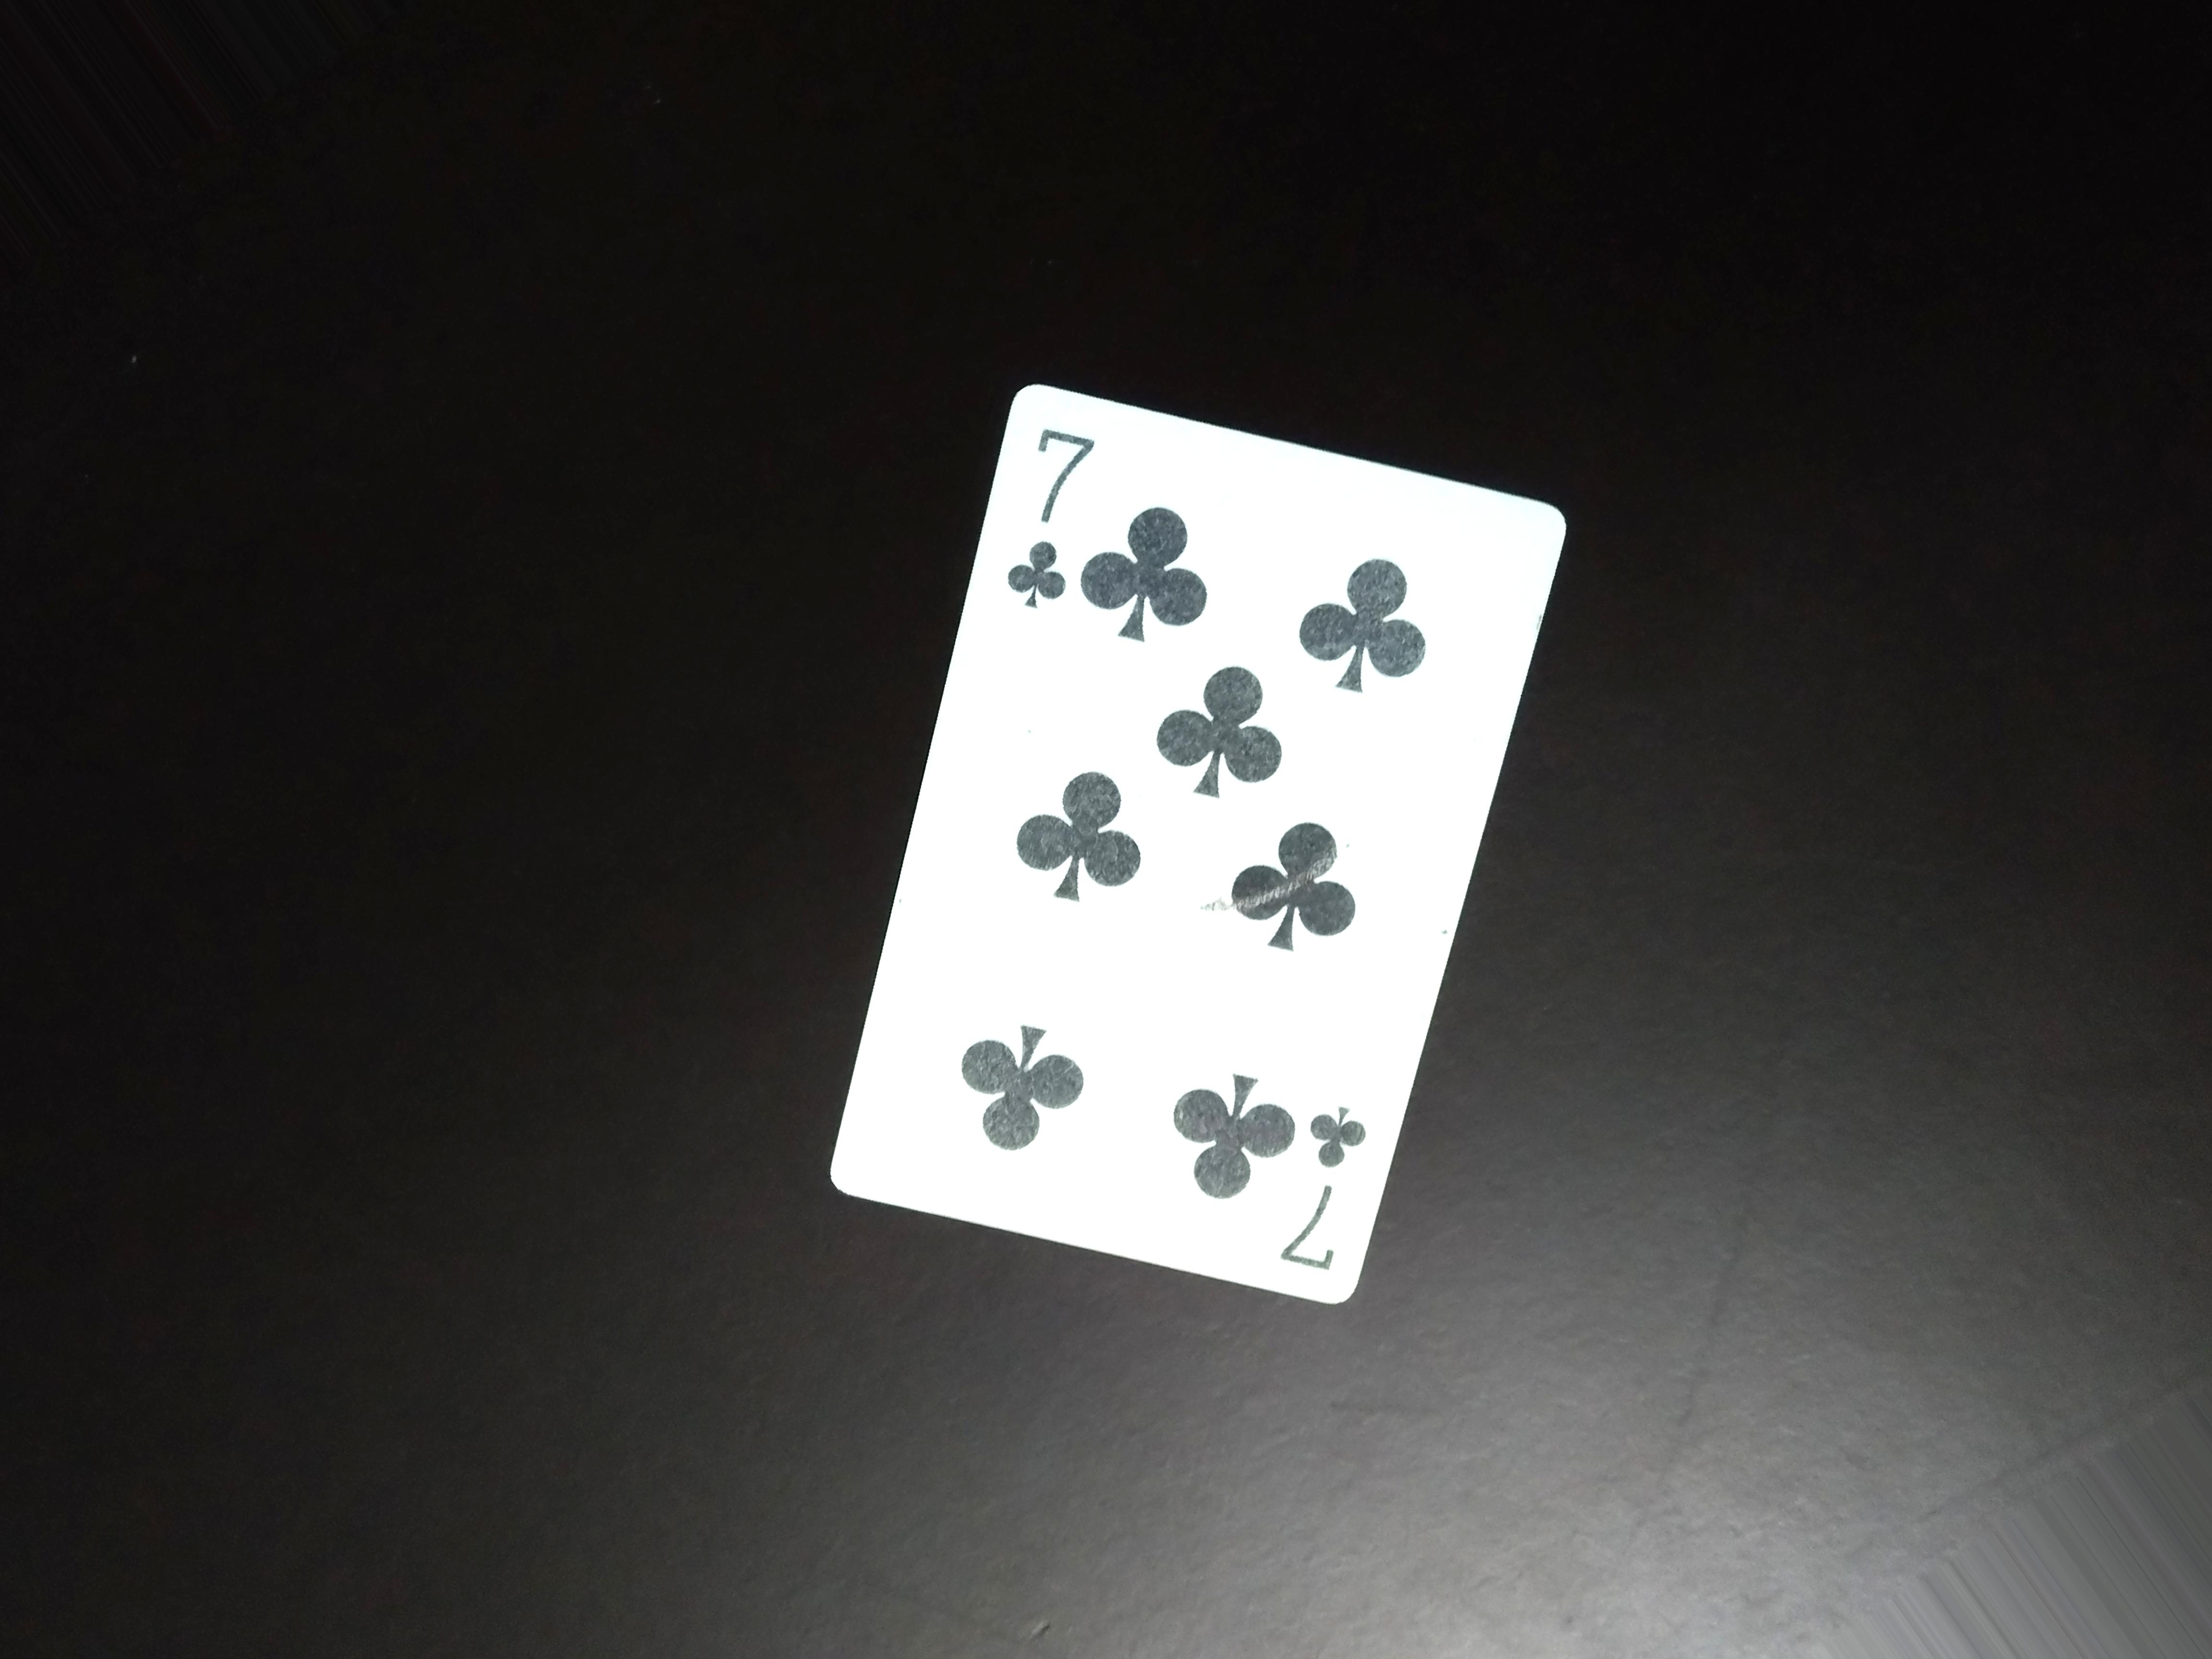7C: (998, 406, 1097, 631)
